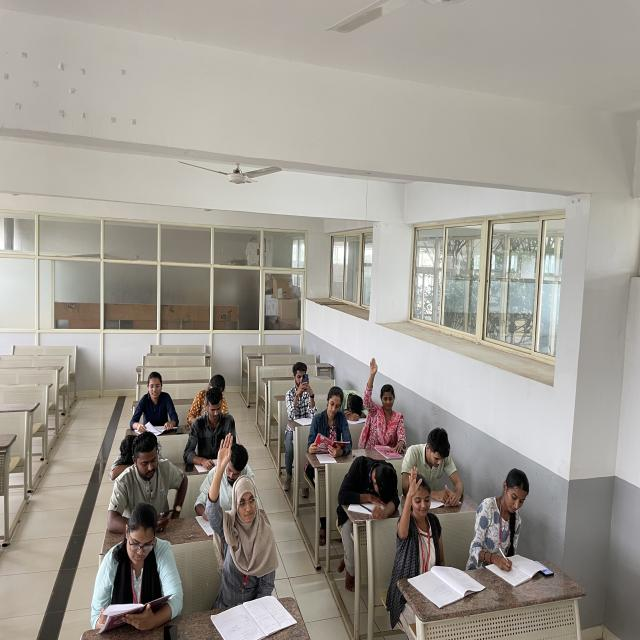Hand Rising: (206, 433, 280, 585), (392, 470, 448, 576), (364, 357, 410, 445)
Reading: (89, 508, 182, 632), (124, 369, 177, 433), (308, 388, 352, 461)
Sleeping: (339, 456, 405, 516), (338, 385, 370, 424)
Using Phone: (102, 428, 193, 532), (283, 360, 320, 418)
Writing: (471, 462, 564, 580)
